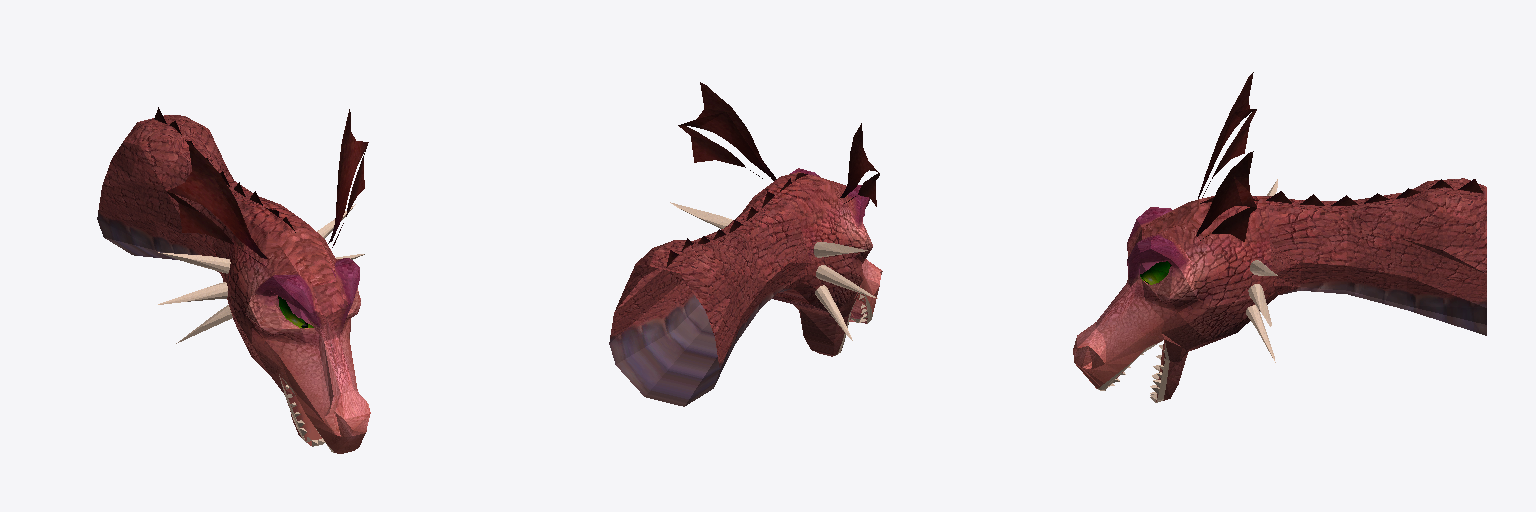
The picture shows the model from 3 angles: view 1: azimuth 30°, elevation 25°; view 2: azimuth 150°, elevation 25°; view 3: azimuth 270°, elevation 25°; orthographic projection.
Visible parts, largest first — view 1: mesh00422, mesh00432, mesh0039, mesh00402; view 2: mesh00432, mesh00422, mesh0039, mesh00402; view 3: mesh00432, mesh00422, mesh0039, mesh00402.
Boxes of the visible parts, x1=… form: mesh00422: x1=223, y1=203, x2=370, y2=453; mesh00432: x1=97, y1=115, x2=280, y2=277; mesh0039: x1=154, y1=107, x2=368, y2=265; mesh00402: x1=158, y1=204, x2=364, y2=446; mesh00432: x1=609, y1=195, x2=809, y2=406; mesh00422: x1=755, y1=168, x2=882, y2=356; mesh0039: x1=666, y1=82, x2=879, y2=267; mesh00402: x1=670, y1=202, x2=877, y2=340; mesh00432: x1=1269, y1=178, x2=1486, y2=335; mesh00422: x1=1073, y1=196, x2=1277, y2=401; mesh0039: x1=1196, y1=72, x2=1482, y2=241; mesh00402: x1=1108, y1=179, x2=1277, y2=402.
Size of the model in its own units: 6.16 by 8.02 by 10.42.
Materials: 5 (5 with a texture image).